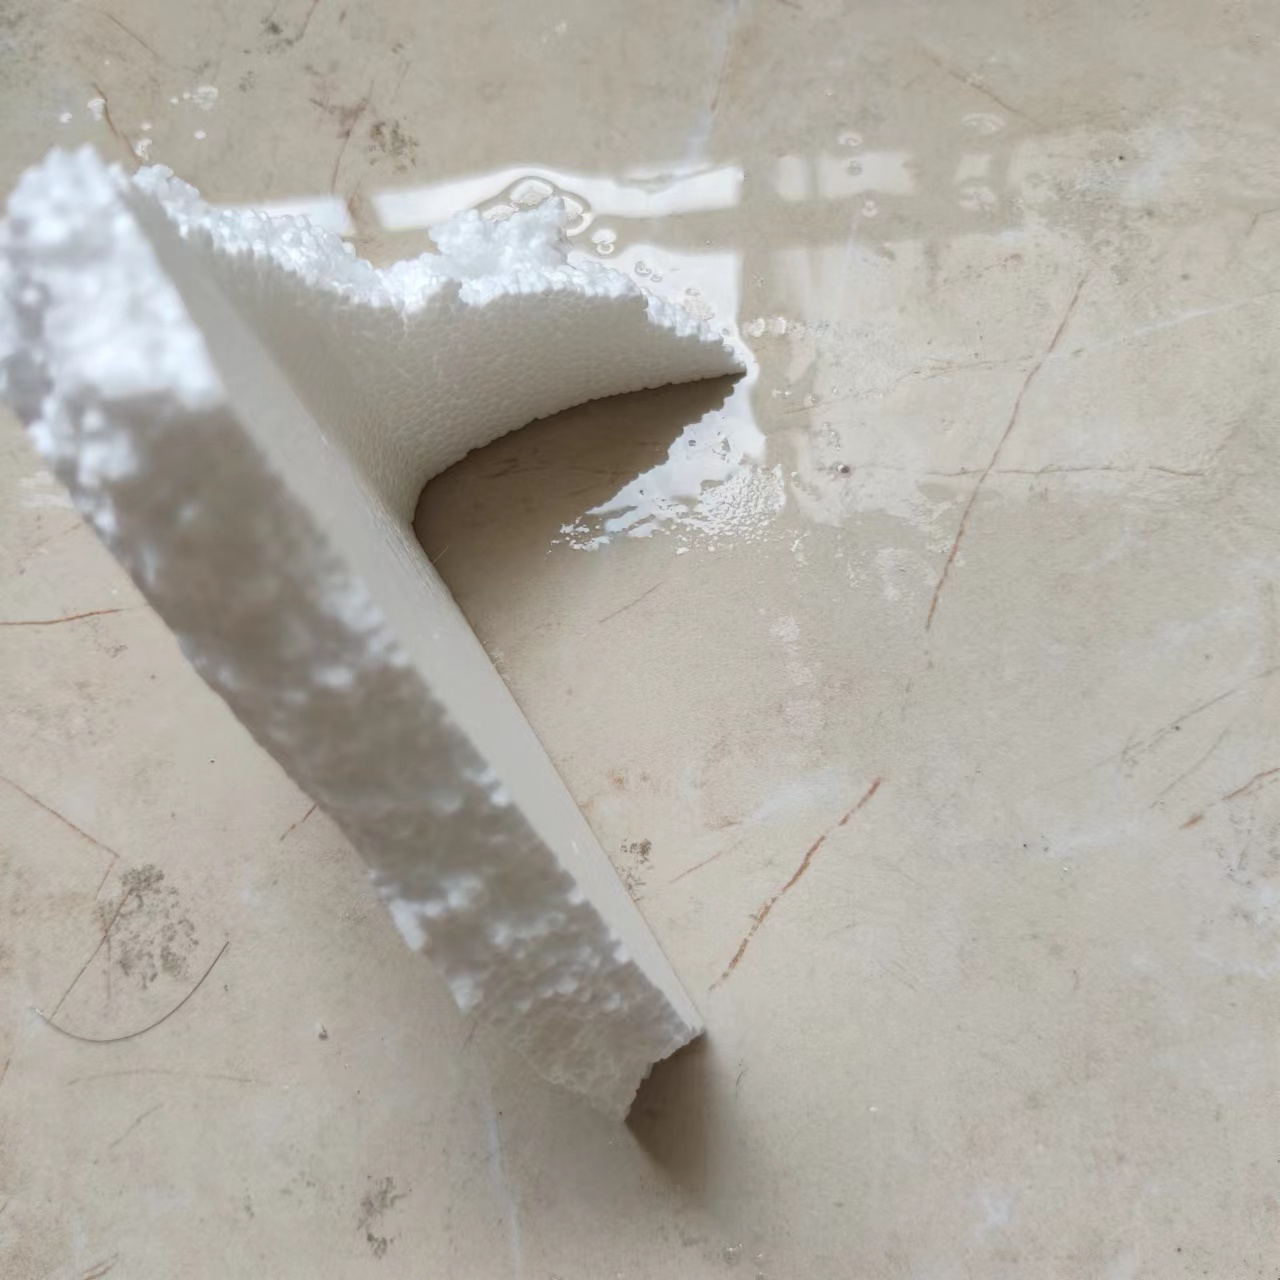5/可回收垃圾/泡沫: (1, 147, 745, 1128)
